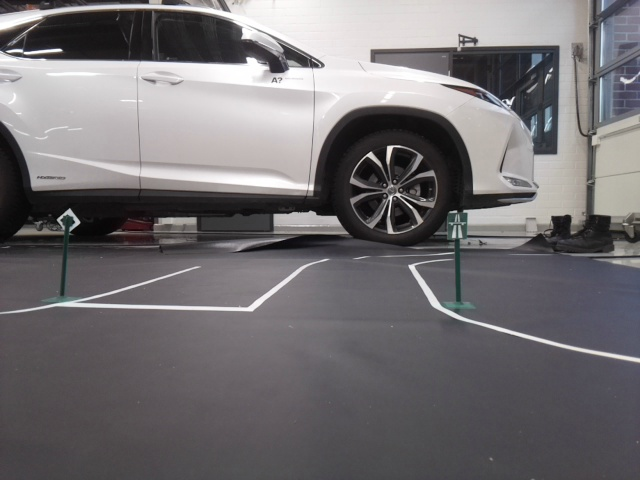HighwayEntrance: (446, 211, 465, 240)
